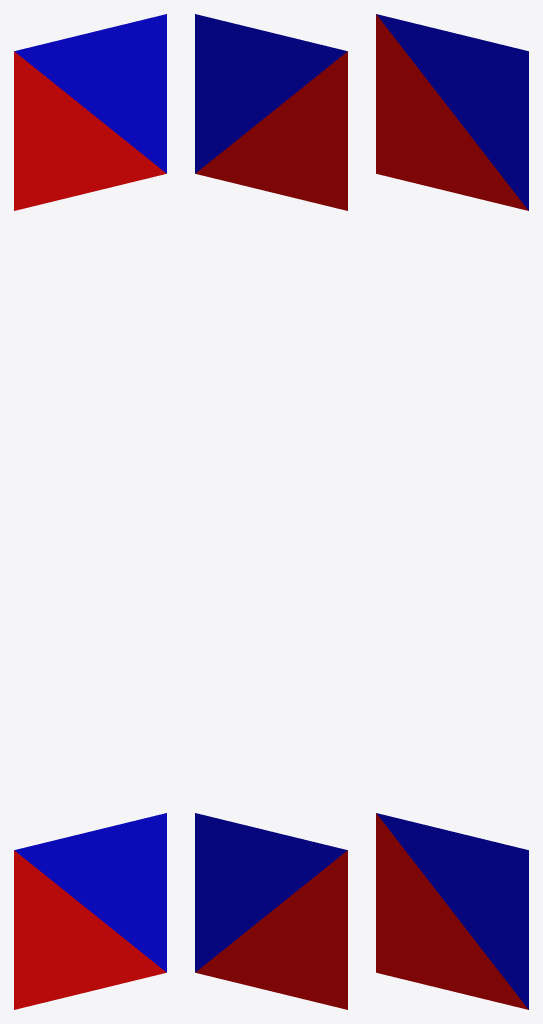
File: shared-mesh.gltf
3 renders of one model, left to right at view 1: azimuth 30°, elevation 25°; view 2: azimuth 150°, elevation 25°; view 3: azimuth 330°, elevation 25°, orthographic.
Parts seen in each view (by area): view 1: First, Second; view 2: First, Second; view 3: First, Second.
Part boxes in pixels (x1,y1,x2,y2): First: (14, 813, 166, 1009); Second: (14, 14, 166, 210); First: (195, 813, 347, 1009); Second: (195, 14, 347, 210); First: (376, 813, 528, 1009); Second: (376, 14, 528, 210).
Size of the model in its own units: 0.02 by 0.12 by 0.
